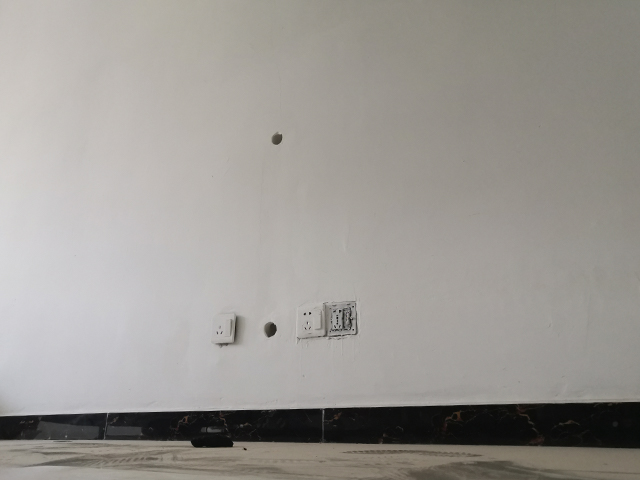feces: (187, 433, 235, 449)
